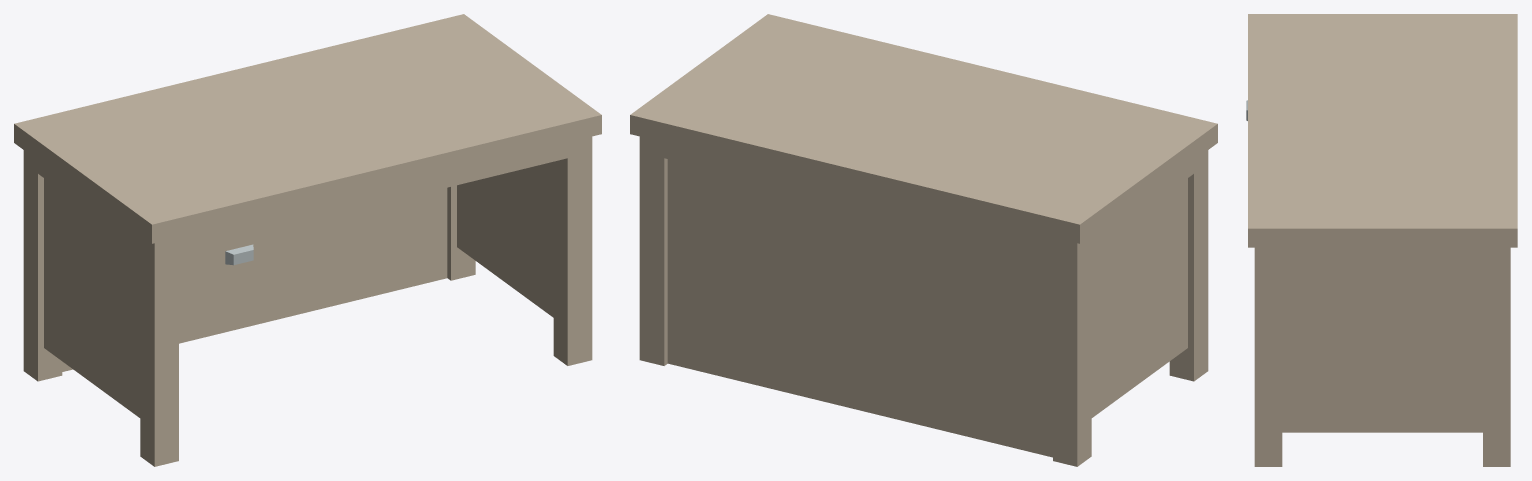
Rendered from desk.glb.
The picture shows the model from 3 angles, left to right: view 1: azimuth 30°, elevation 25°; view 2: azimuth 150°, elevation 25°; view 3: azimuth 270°, elevation 25°; orthographic projection. The views are drawn at different scales.
Visible parts, largest first — view 1: desk; view 2: desk; view 3: desk.
Part boxes in pixels (x1,y1,x2,y2): desk: [14, 14, 601, 466]; desk: [630, 14, 1217, 466]; desk: [1246, 14, 1517, 466].
Bounding box in the file's own units: 60 × 31.4 × 32.05.
